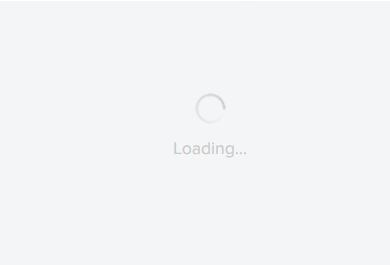0-Loading: (167, 90, 253, 165)
